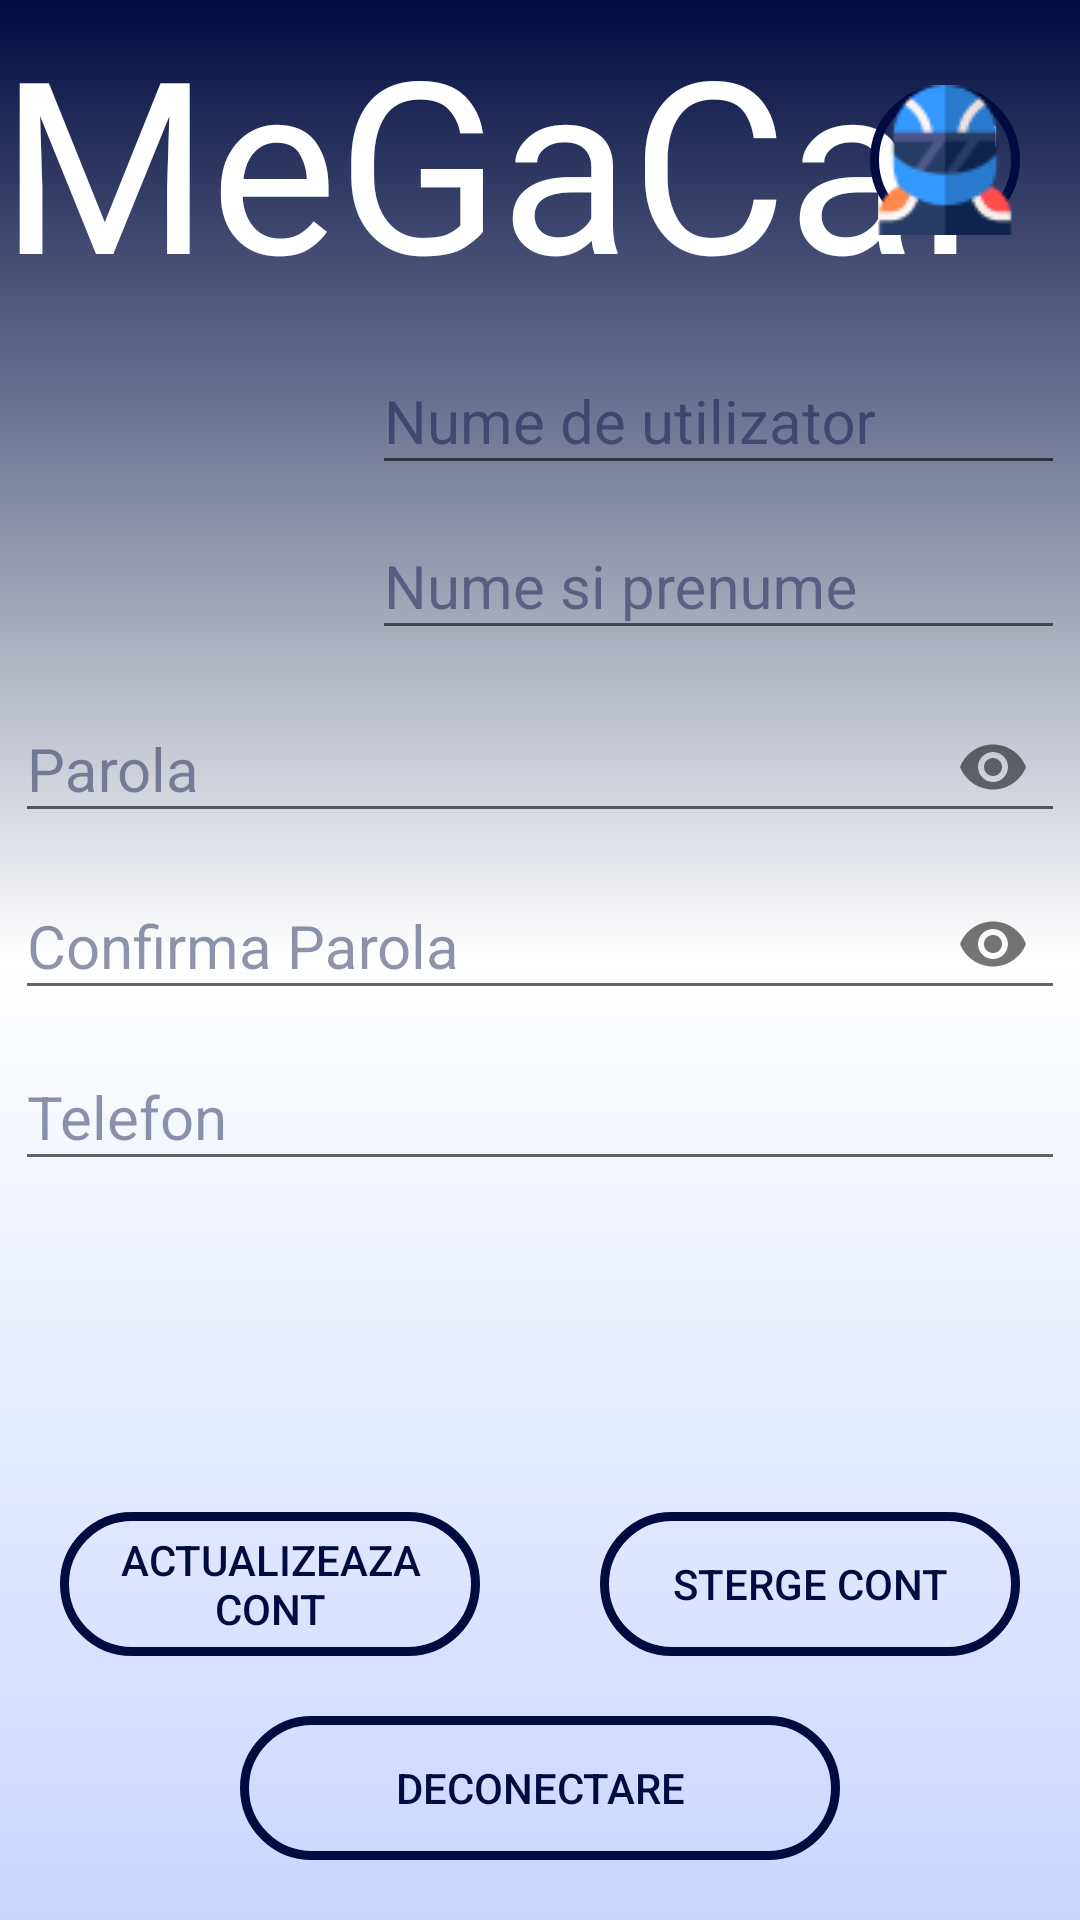

Icons on this 1080px×1920px Android screen, each with the point to tap as point (x, y):
profil: point (945, 160)
